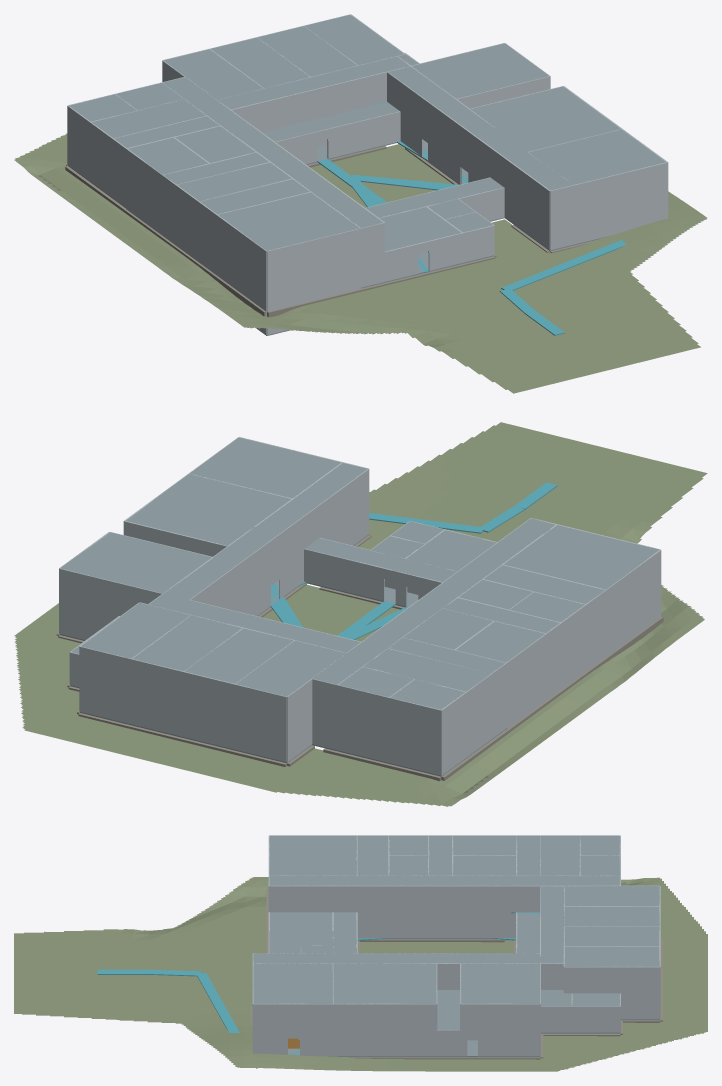
The model's file is open-circulation.glb.
3 renders of one model, top to bottom at view 1: azimuth 30°, elevation 25°; view 2: azimuth 150°, elevation 25°; view 3: azimuth 270°, elevation 25°, orthographic. The views are drawn at different scales.
Visible parts, largest first — view 1: Saved editor macroterrain ACADEMY, Ceiling cap study, Wall upper-east W, Ceiling cap upper-west, Ceiling cap upper-main-stair, Flat route shell Wall upper-north S, Ceiling cap restricted, Ceiling cap upper-east-stair, Ceiling cap upper-east, Wall upper-main-stair S, Wall upper-east-stair S, Wall main-stair S (+44 smaller); view 2: Saved editor macroterrain ACADEMY, Ceiling cap study, Ceiling cap upper-west, Wall upper-east W, Ceiling cap upper-main-stair, Ceiling cap restricted, Ceiling cap upper-east-stair, Ceiling cap upper-east, Ceiling cap dorm-1, Ceiling cap dorm-3, Ceiling cap dorm-4, Ceiling cap dorm-2 (+51 smaller); view 3: Saved editor macroterrain ACADEMY, Flat route shell Wall upper-west E.001, Flat route shell Wall west E.001, Ceiling cap study, Ceiling cap upper-main-stair, Ceiling cap upper-west, Ceiling cap restricted, Ceiling cap upper-east-stair, Ceiling cap upper-east, Wall study E, Wall lecture E, Wall dorm-4 E (+33 smaller).
Boxes of the visible parts, box(x1,y1,x2,y2) form: Saved editor macroterrain ACADEMY: box(14, 133, 707, 393); Ceiling cap study: box(470, 86, 620, 151); Wall upper-east W: box(387, 72, 550, 220); Ceiling cap upper-west: box(163, 77, 383, 228); Ceiling cap upper-main-stair: box(218, 192, 360, 250); Flat route shell Wall upper-north S: box(231, 70, 393, 131); Ceiling cap restricted: box(412, 43, 549, 98); Ceiling cap upper-east-stair: box(529, 129, 666, 184); Ceiling cap upper-east: box(388, 66, 572, 190); Wall upper-main-stair S: box(267, 228, 361, 280); Wall upper-east-stair S: box(574, 162, 667, 214); Wall main-stair S: box(267, 258, 361, 310); Saved editor macroterrain ACADEMY: box(14, 422, 707, 806); Ceiling cap study: box(126, 474, 291, 545); Ceiling cap upper-west: box(312, 518, 555, 684); Wall upper-east W: box(189, 469, 369, 607); Ceiling cap upper-main-stair: box(503, 525, 659, 589); Ceiling cap restricted: box(60, 532, 211, 593); Ceiling cap upper-east-stair: box(190, 437, 342, 498); Ceiling cap upper-east: box(163, 462, 367, 599); Ceiling cap dorm-1: box(236, 640, 346, 696); Ceiling cap dorm-3: box(132, 615, 241, 671); Ceiling cap dorm-4: box(81, 602, 190, 658); Ceiling cap dorm-2: box(185, 628, 293, 683); Saved editor macroterrain ACADEMY: box(14, 877, 707, 1071); Flat route shell Wall upper-west E.001: box(269, 885, 546, 912); Flat route shell Wall west E.001: box(357, 912, 515, 938); Ceiling cap study: box(333, 963, 436, 1003); Ceiling cap upper-main-stair: box(269, 835, 356, 875); Ceiling cap upper-west: box(269, 876, 620, 885); Ceiling cap restricted: box(460, 963, 540, 1003); Ceiling cap upper-east-stair: box(253, 963, 332, 1003); Ceiling cap upper-east: box(253, 953, 540, 963); Wall study E: box(333, 1003, 436, 1030); Wall lecture E: box(333, 1030, 436, 1056); Wall dorm-4 E: box(564, 966, 659, 993).
Size of the model in its own units: 58 by 10.36 by 87.
